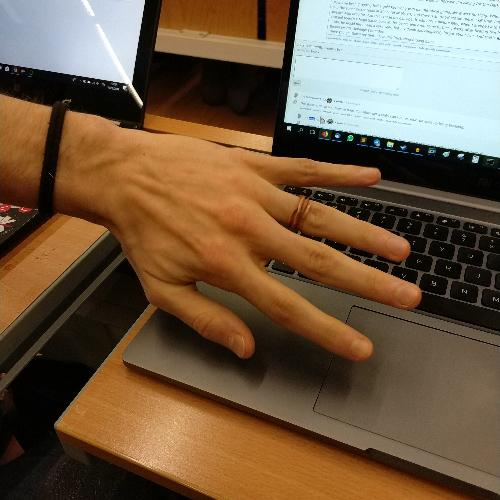paper: (89, 135, 434, 381)
